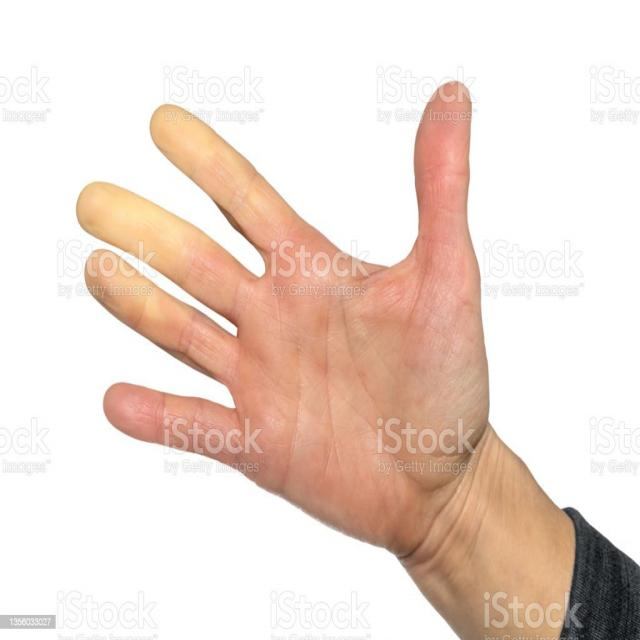raynauds: (74, 179, 204, 278)
